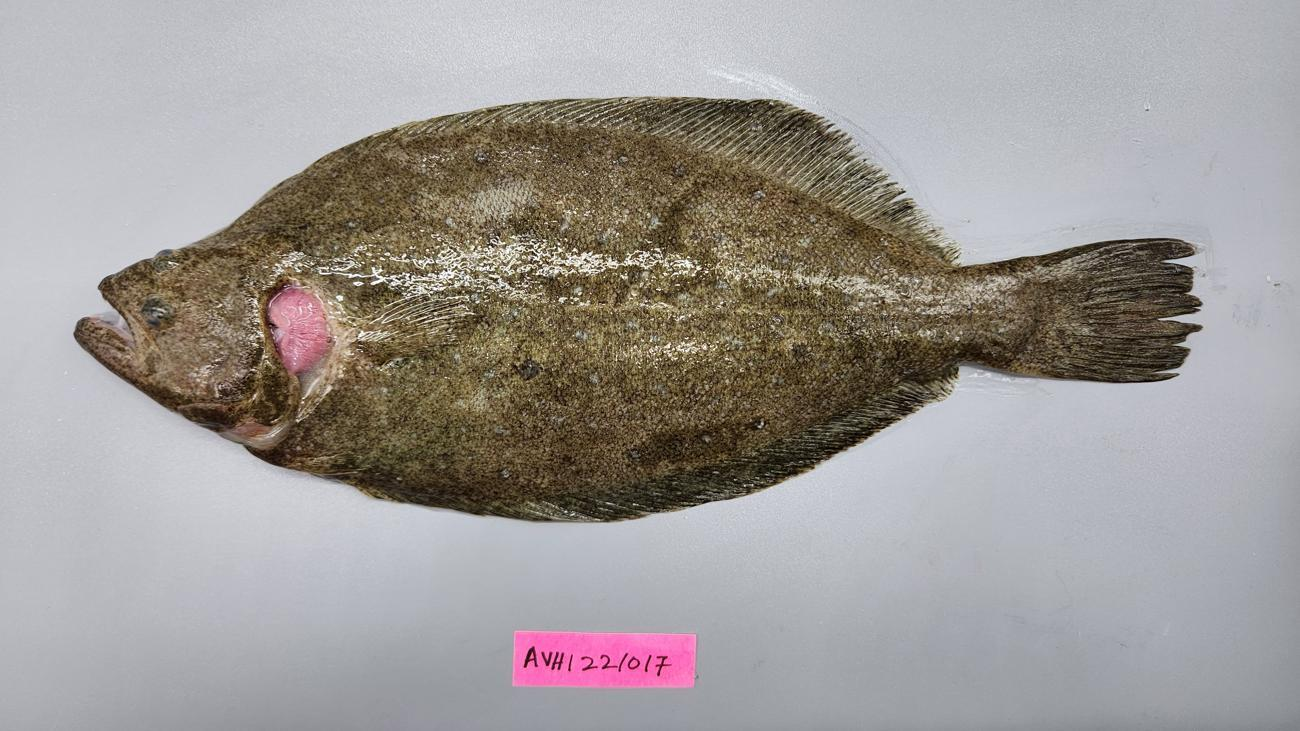VIOUY: (76, 95, 1203, 524)
